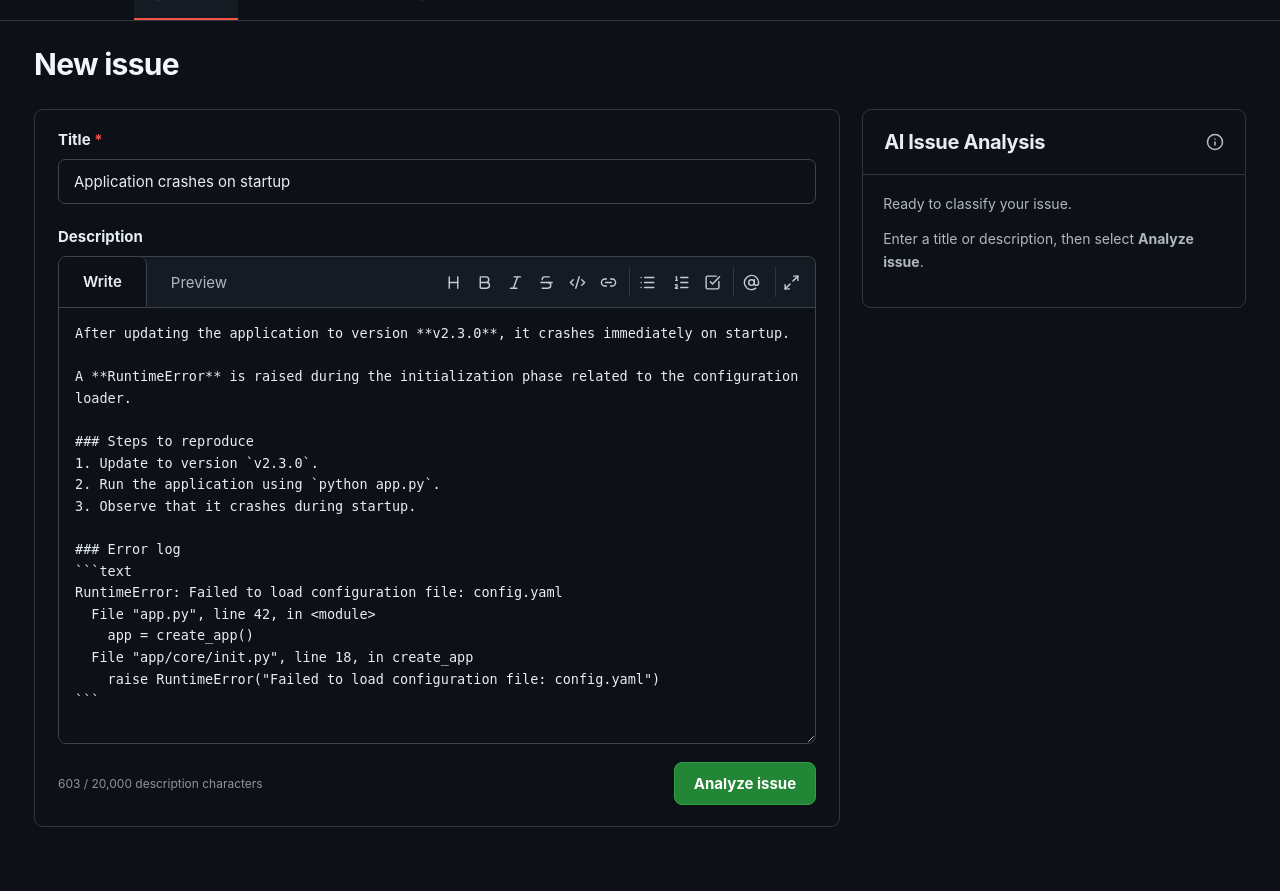
Test: App integration › shows loading while the prediction is pending
(page scrolled)
Click the button "Analyze issue": click(745, 784) [674,762,816,805]
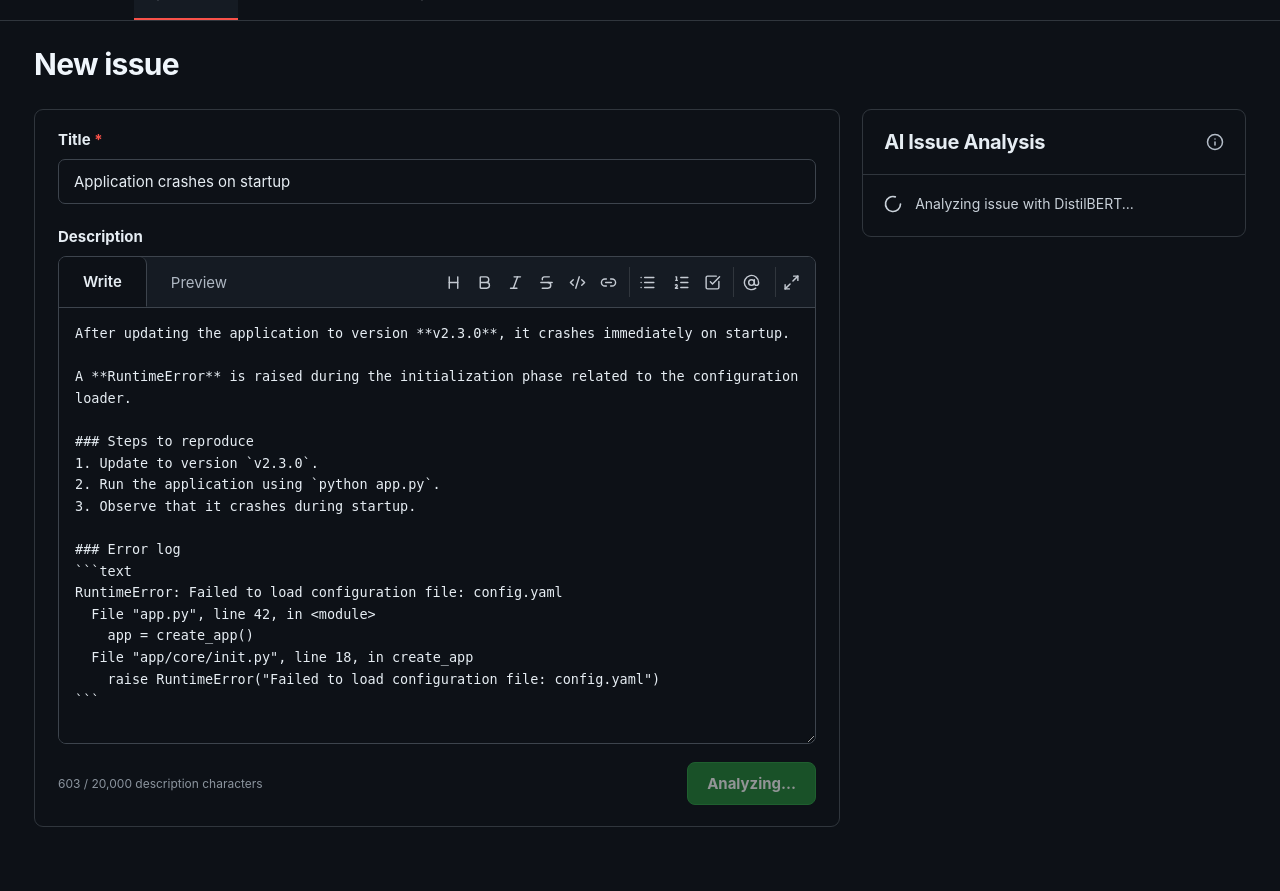
Result: the message shows "Analyzing issue with DistilBERT" at [915,195,1134,212]
Result: the button "Analyzing..." is disabled at [687,762,816,805]
